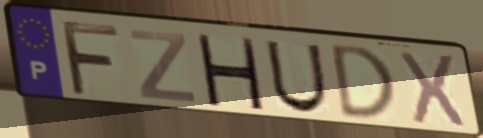D: (330, 42, 400, 121)
F: (57, 17, 124, 99)
H: (193, 32, 267, 113)
U: (263, 38, 331, 116)
X: (397, 49, 469, 132)
Z: (126, 27, 199, 105)
